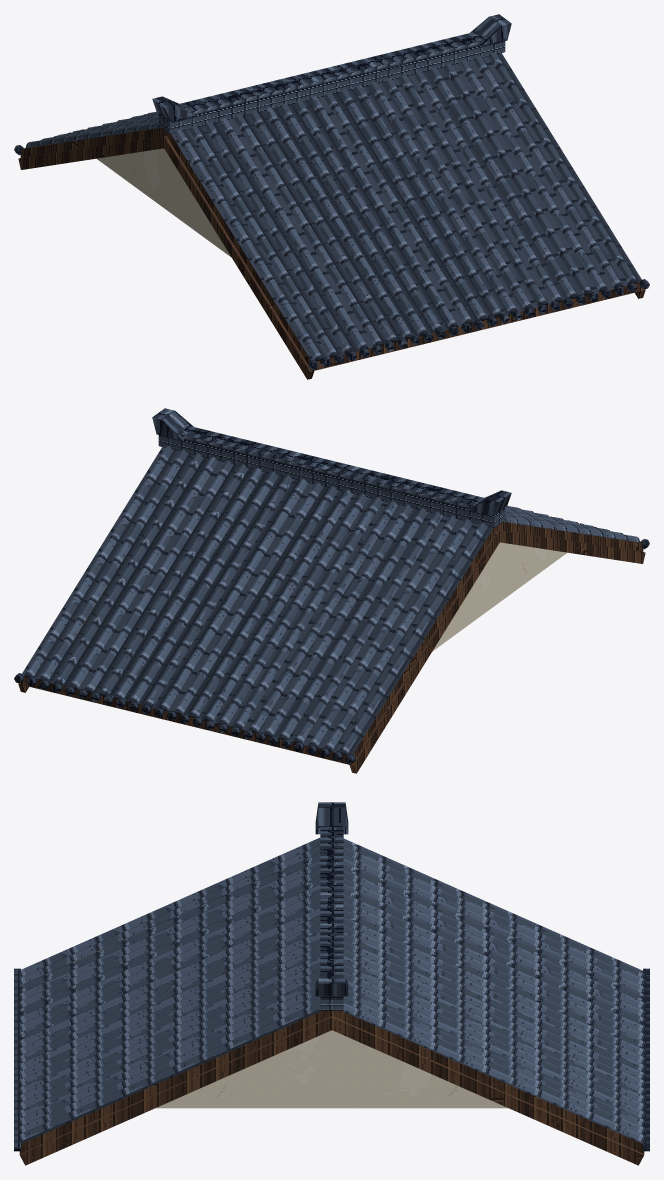
Rendered from JP_Roof_Kawara_Gable_6m.glb.
The picture shows the model from 3 angles, top to bottom: view 1: azimuth 30°, elevation 25°; view 2: azimuth 150°, elevation 25°; view 3: azimuth 270°, elevation 25°; orthographic projection. The views are drawn at different scales.
Parts seen in each view (by area): view 1: JP_Roof_Kawara_Gable_6m; view 2: JP_Roof_Kawara_Gable_6m; view 3: JP_Roof_Kawara_Gable_6m.
Boxes of the visible parts, box(x1,y1,x2,y2) form: JP_Roof_Kawara_Gable_6m: box(14, 14, 649, 379); JP_Roof_Kawara_Gable_6m: box(14, 408, 649, 773); JP_Roof_Kawara_Gable_6m: box(14, 802, 649, 1165).
Size of the model in its own units: 7.42 by 3.53 by 11.
Materials: 6 (6 with a texture image).
